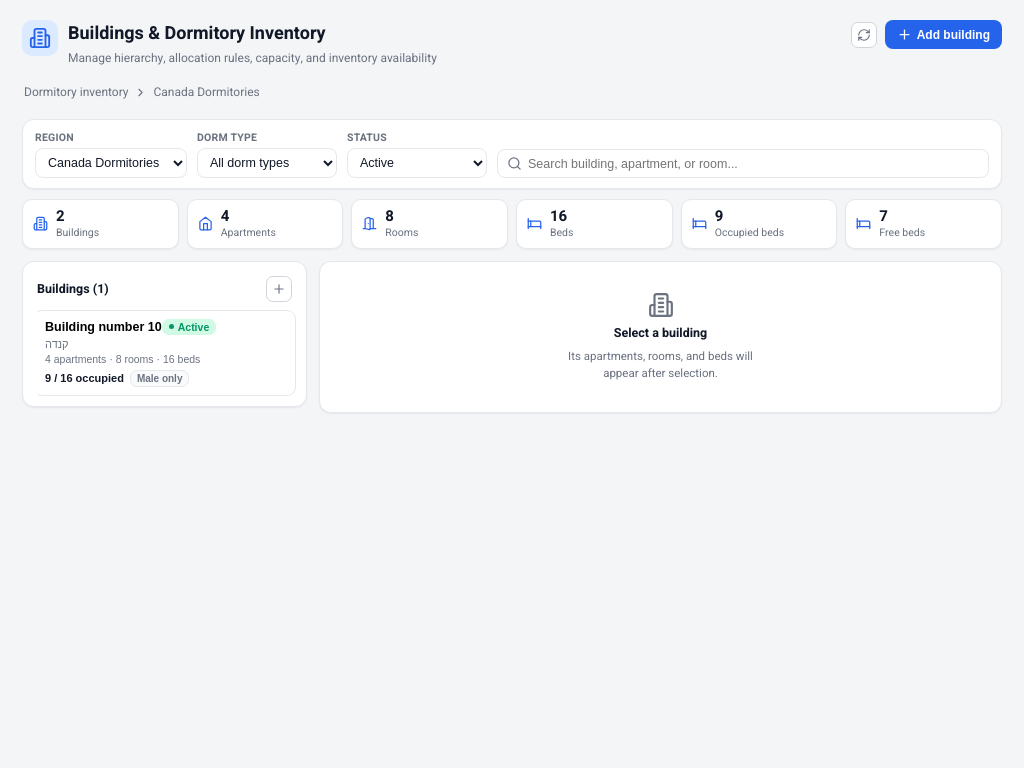
Test: BuildingsPage structure navigation › selecting a building loads its apartments and rooms; selecting it again collapses it
The width and height of the screenshot is (1024, 768).
What coordinates should you click on to do the following:
click the button "Building number 10"
I would click on:
 (164, 352)
Its box is left=33, top=310, right=296, bottom=396.
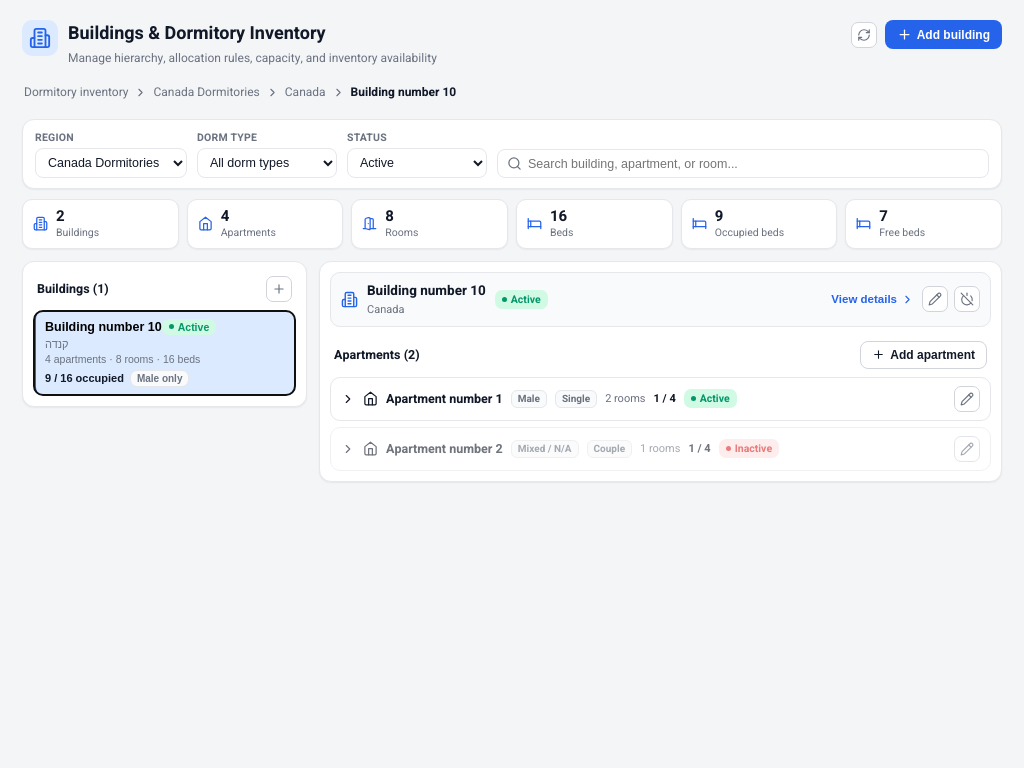
Now the text "Apartment number 1" is shown, box left=386, top=390, right=503, bottom=408
Now the heading "Apartments (2)" is shown, box left=334, top=346, right=420, bottom=364
What coordinates should you click on to do the following:
click the button "View details"
I would click on:
 (873, 299)
Its box is left=829, top=288, right=916, bottom=310.
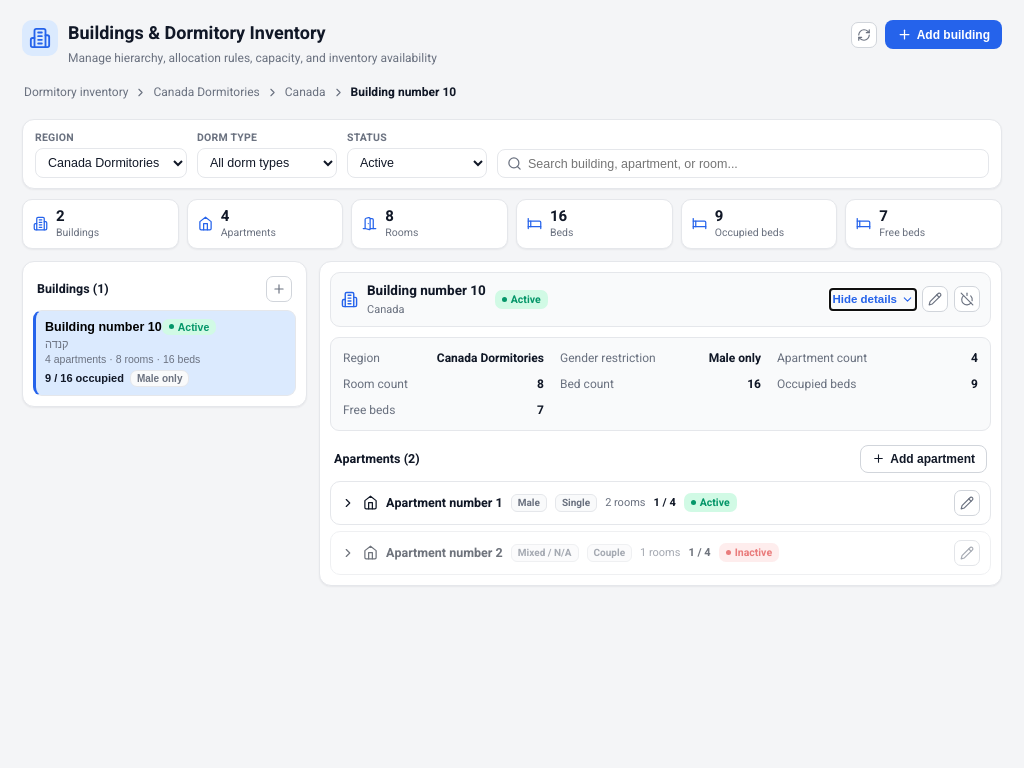
Now the text "Canada Dormitories" next to "Gender restriction" is shown, box left=437, top=348, right=544, bottom=366
Now the button "Hide details" is shown, box left=830, top=288, right=916, bottom=310
What coordinates should you click on to do the following:
click the button "Building number 10"
I would click on:
 (164, 352)
Its box is left=33, top=310, right=296, bottom=396.
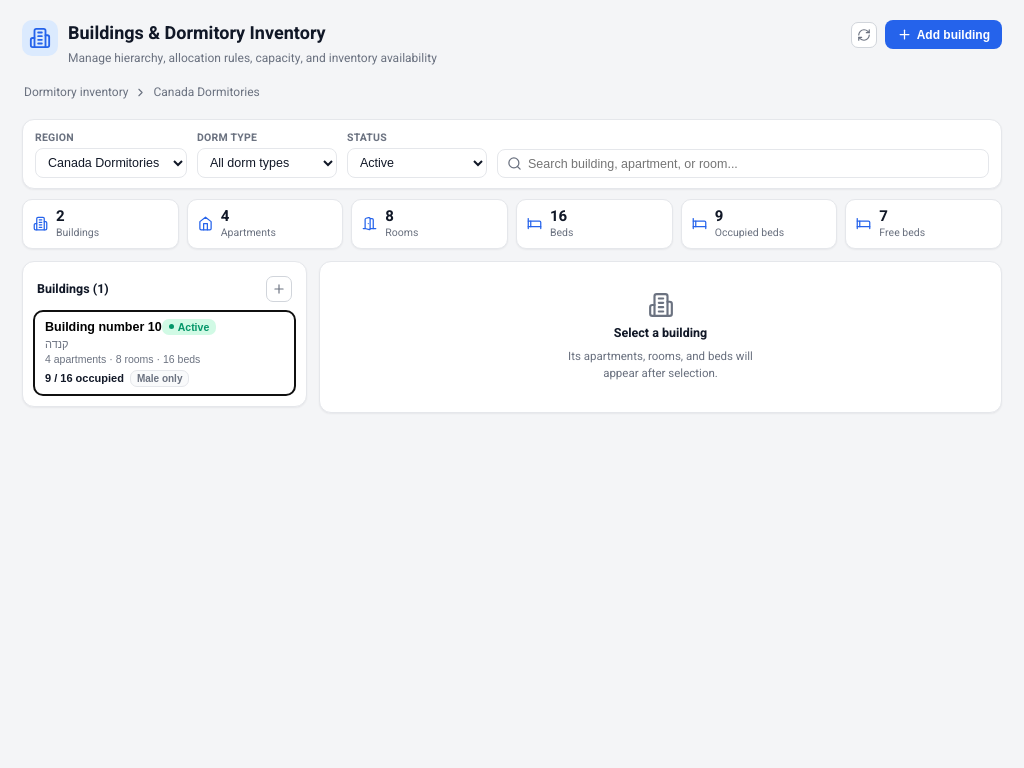
Now the text "Select a building" is shown, box left=614, top=324, right=707, bottom=342
